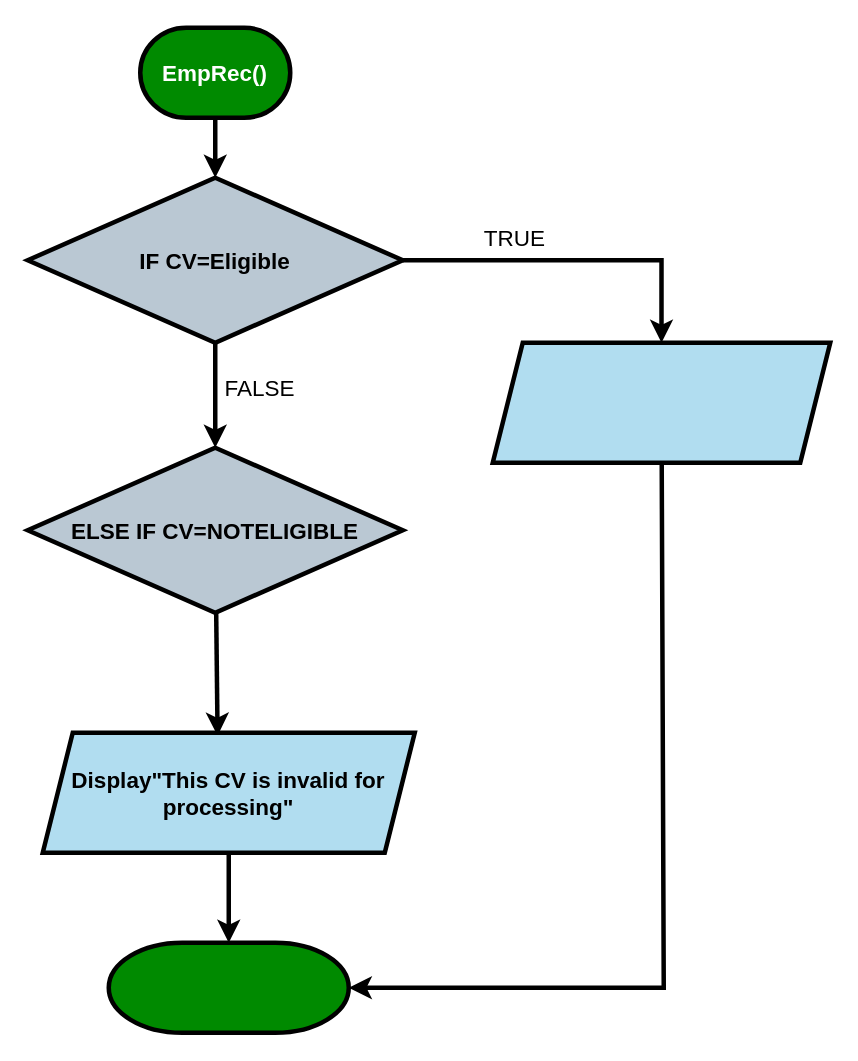
Some shapes in this 858 by 1061 pixel diagram are drawn without their labels. The shapes that lost their labels are listed below. From the top down, each one's centre as x and y in pixels, then its label:
the point at 661,402: Display"This CV is valid for processing"
the point at 228,987: Return EmpRec
